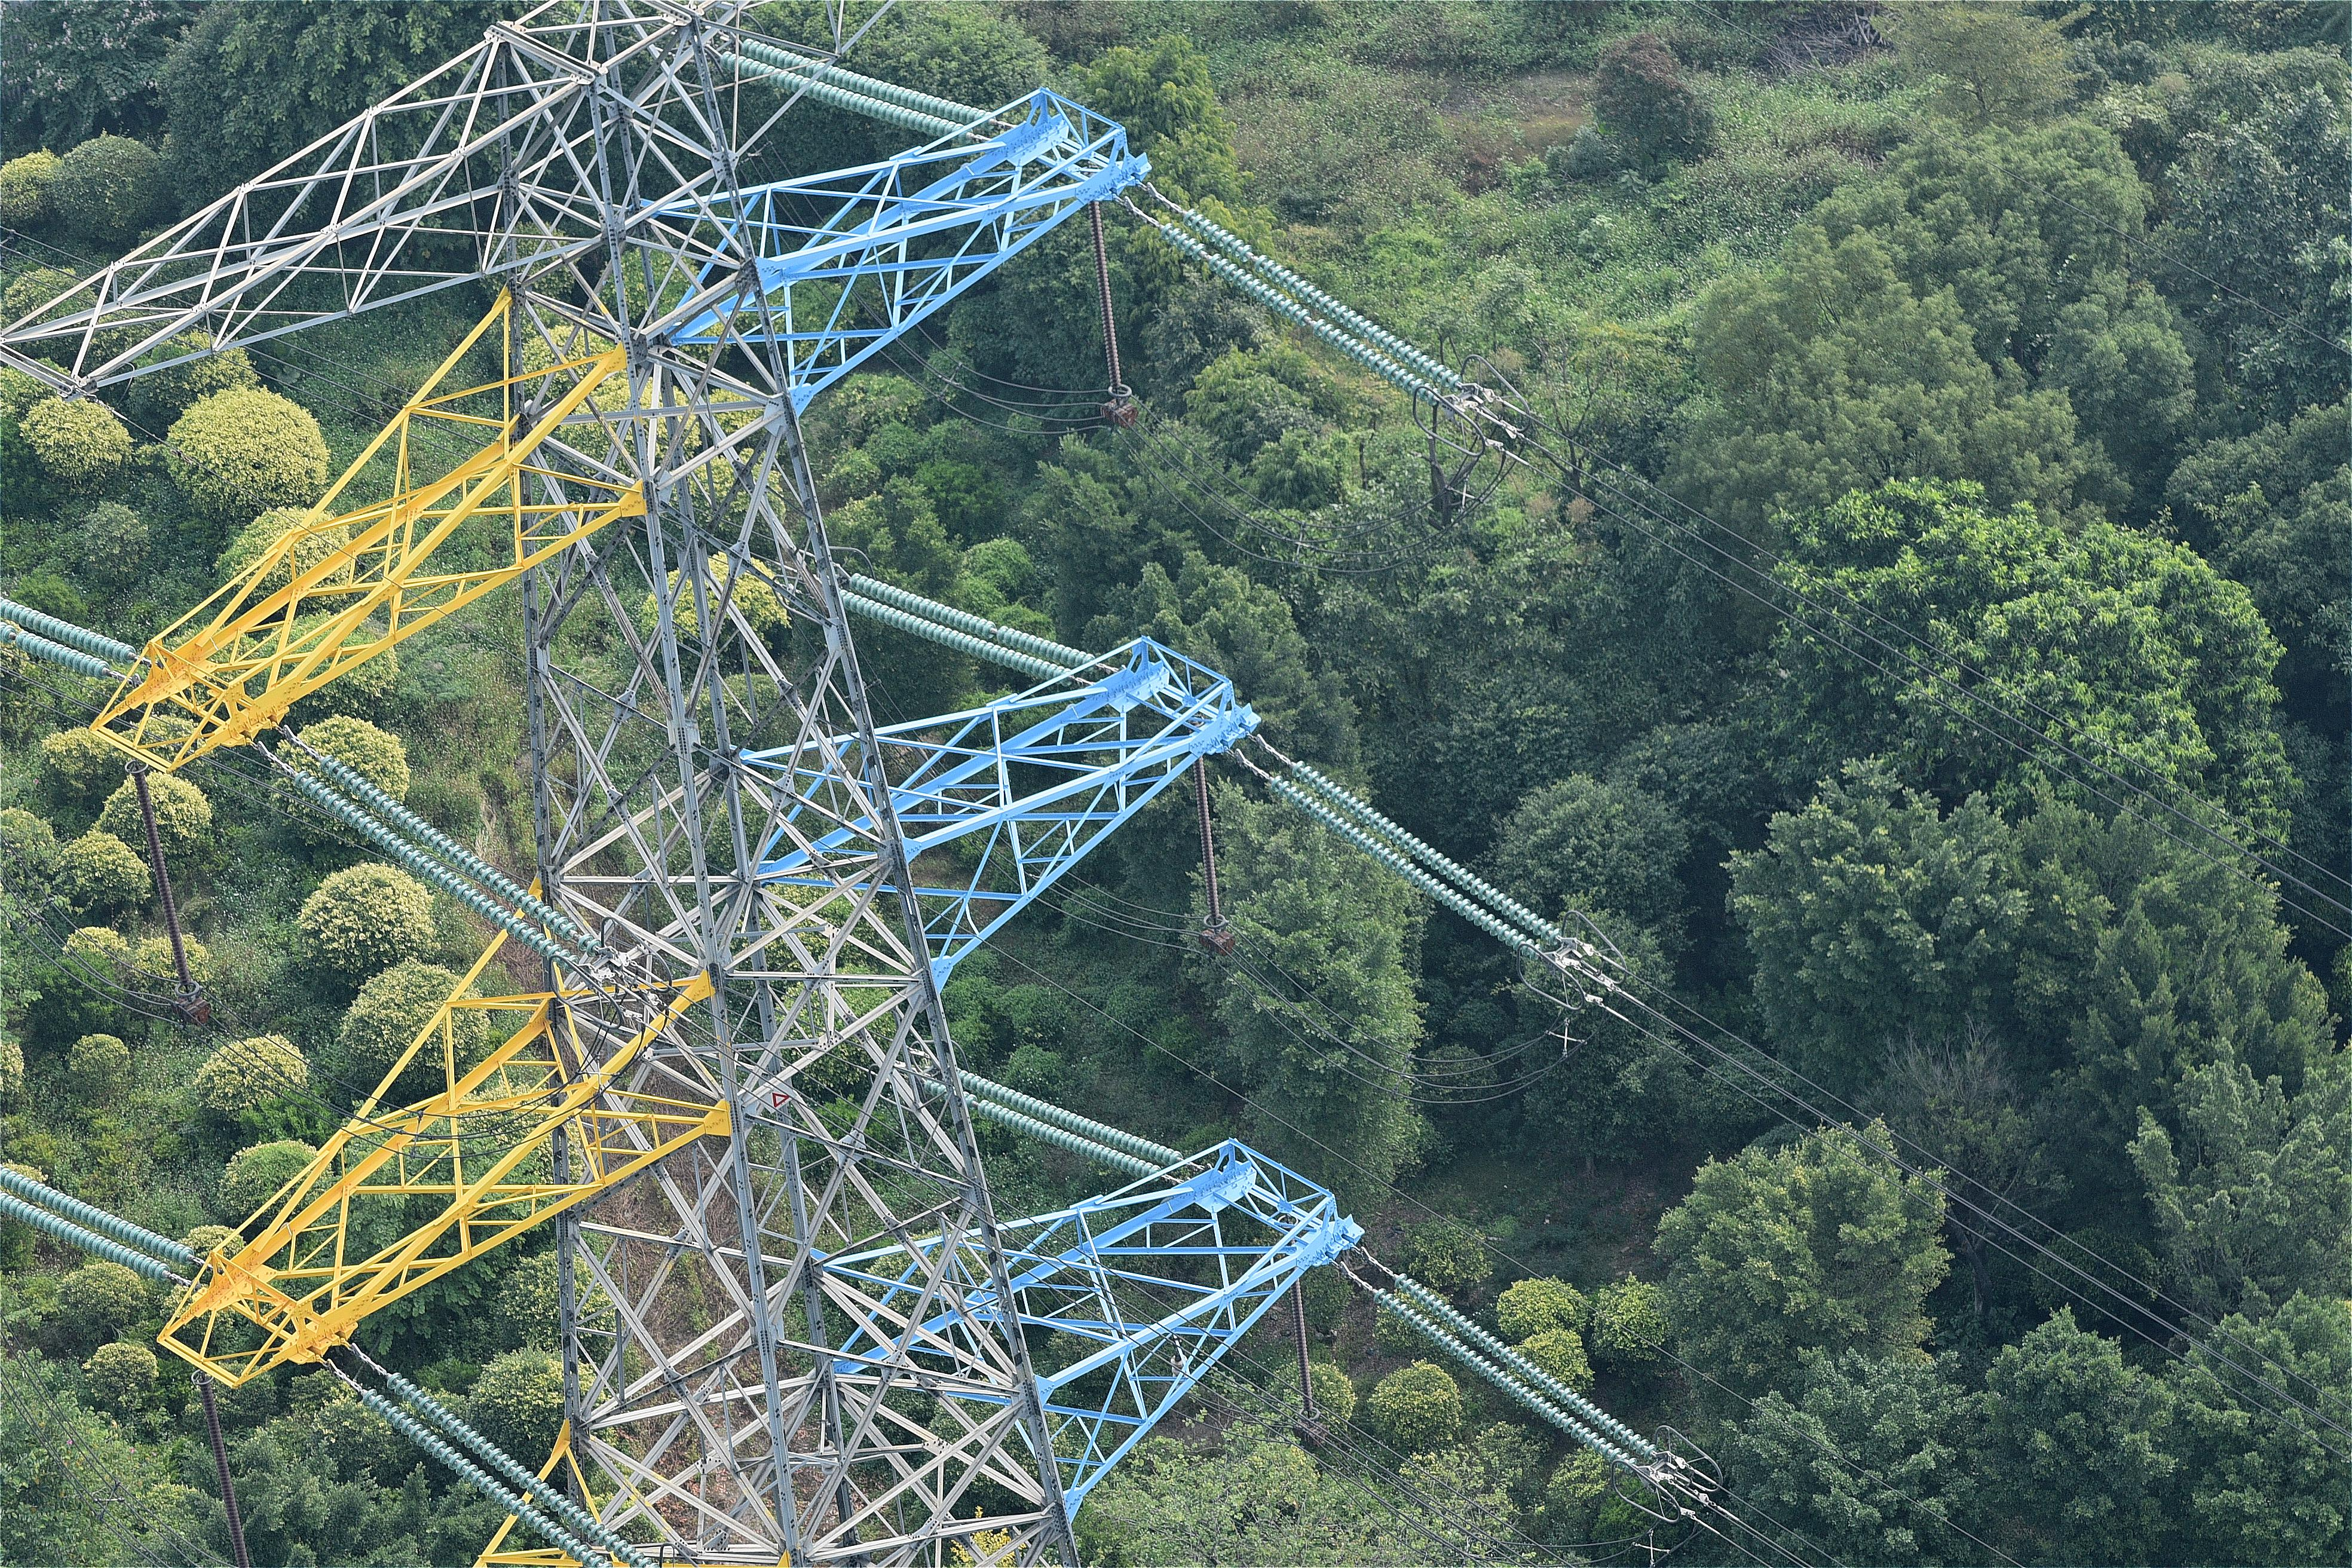insultor3: (287, 740, 630, 992), (1150, 177, 1470, 411), (1372, 1260, 1685, 1484), (1272, 756, 1563, 975), (359, 1358, 642, 1568), (815, 555, 1094, 686), (903, 1053, 1188, 1176), (707, 26, 999, 138), (0, 1137, 201, 1298), (0, 565, 136, 702)
